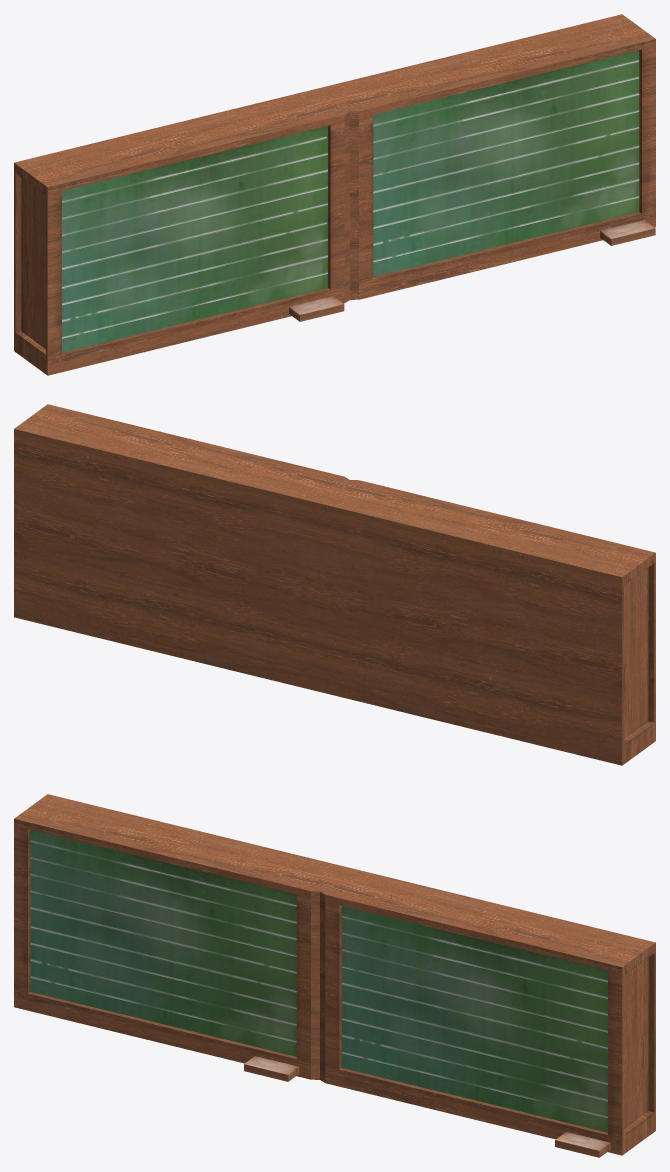
File: blackboard.fbx
3 renders of one model, top to bottom at view 1: azimuth 30°, elevation 25°; view 2: azimuth 150°, elevation 25°; view 3: azimuth 330°, elevation 25°, orthographic.
Parts seen in each view (by area): view 1: board; view 2: board; view 3: board.
Boxes of the visible parts, x1,y1,x2,y2 form: board: (14, 14, 655, 375); board: (14, 404, 655, 765); board: (14, 794, 655, 1157).
Bounding box in the file's own units: 2066 × 612 × 264.
